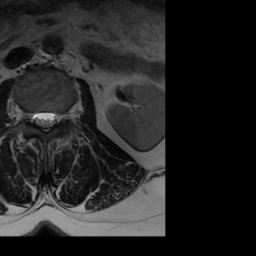CCS_normal: (40, 102, 49, 138)
LFS_normal: (57, 104, 67, 126)
LLS_normal: (49, 103, 57, 132)
RFS_normal: (24, 103, 32, 127)
RLS_normal: (32, 103, 40, 131)
